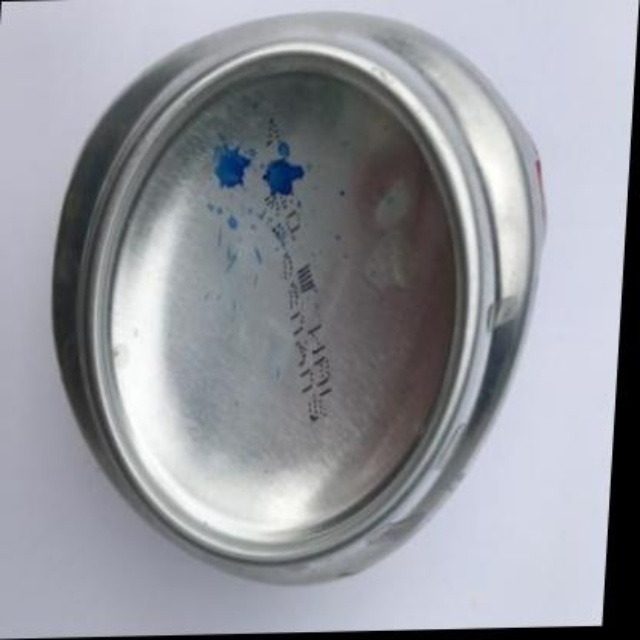trash: (54, 12, 543, 582)
